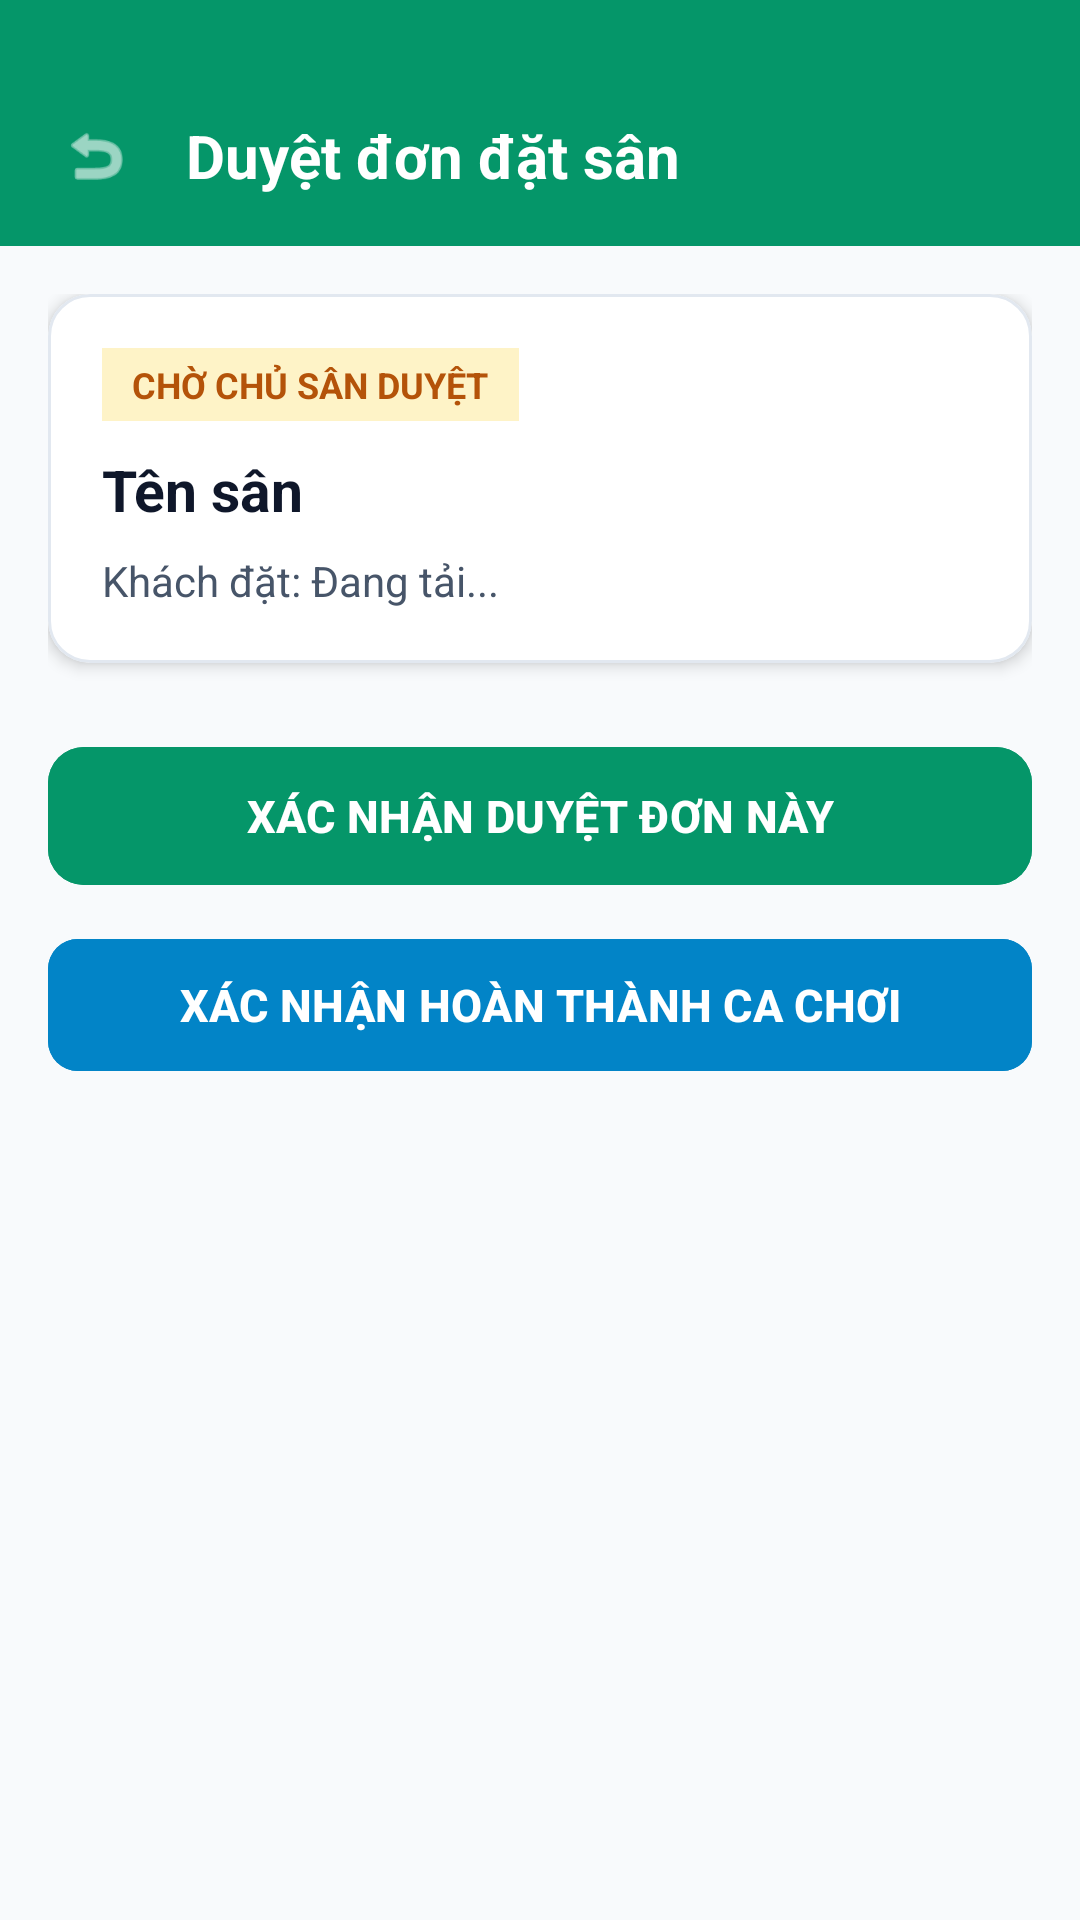

Named icons in this screenshot (1080px x 1920px) and their centers, [x,y]:
revert: [97,156]
